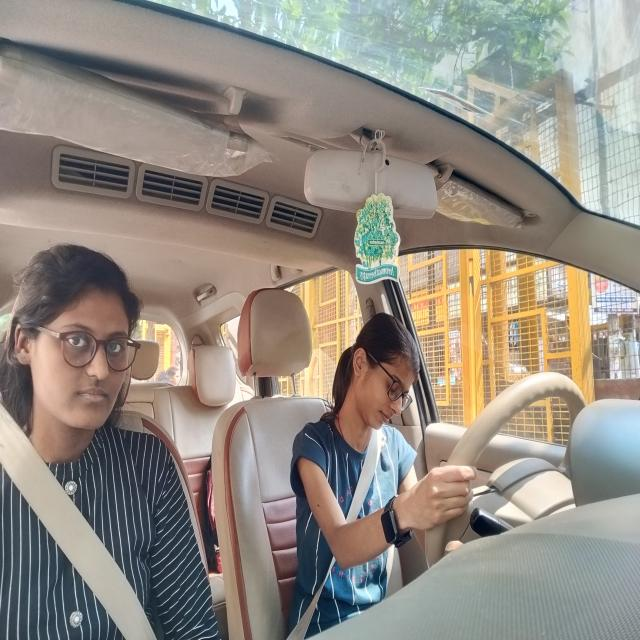drowsy: (338, 306, 416, 434)
person: (20, 250, 136, 430)
